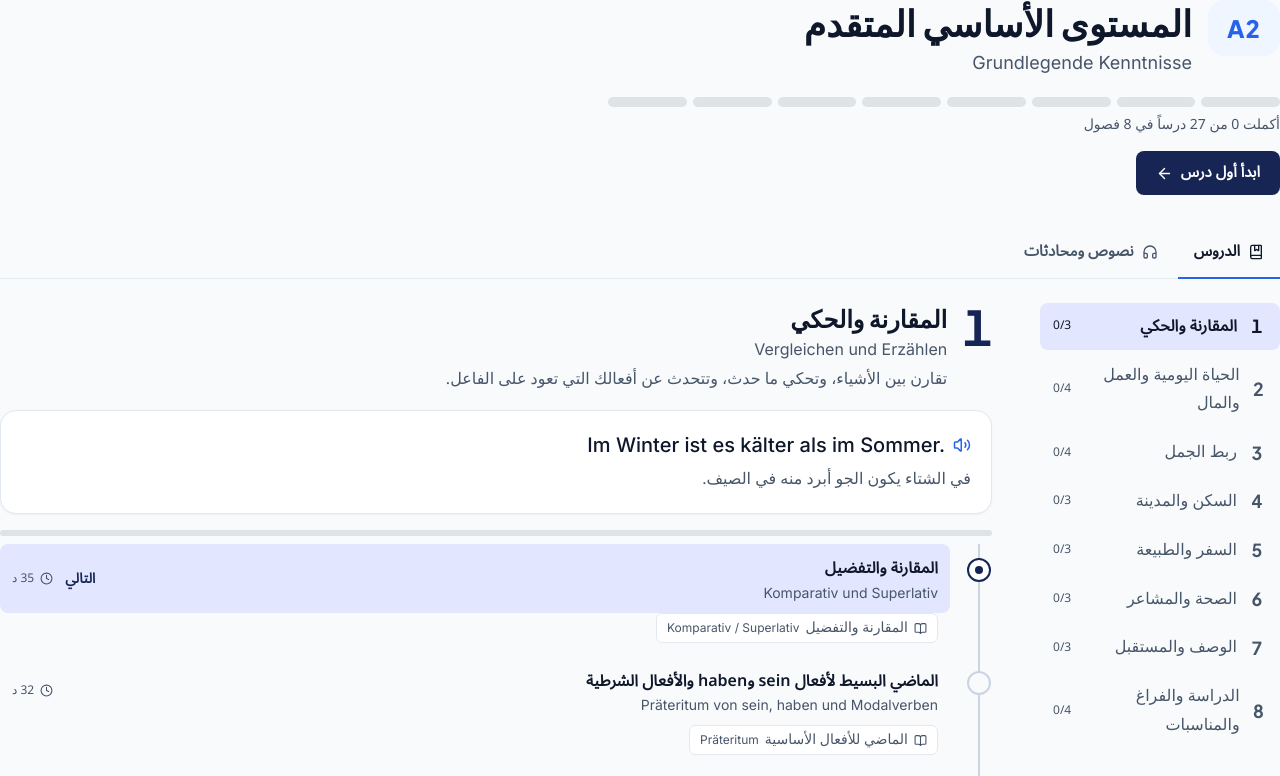
Scenario: level navigation › lists A2 texts and conversations too
Click the tab "نصوص ومحادثات": [1091, 253] box [1008, 227, 1174, 279]
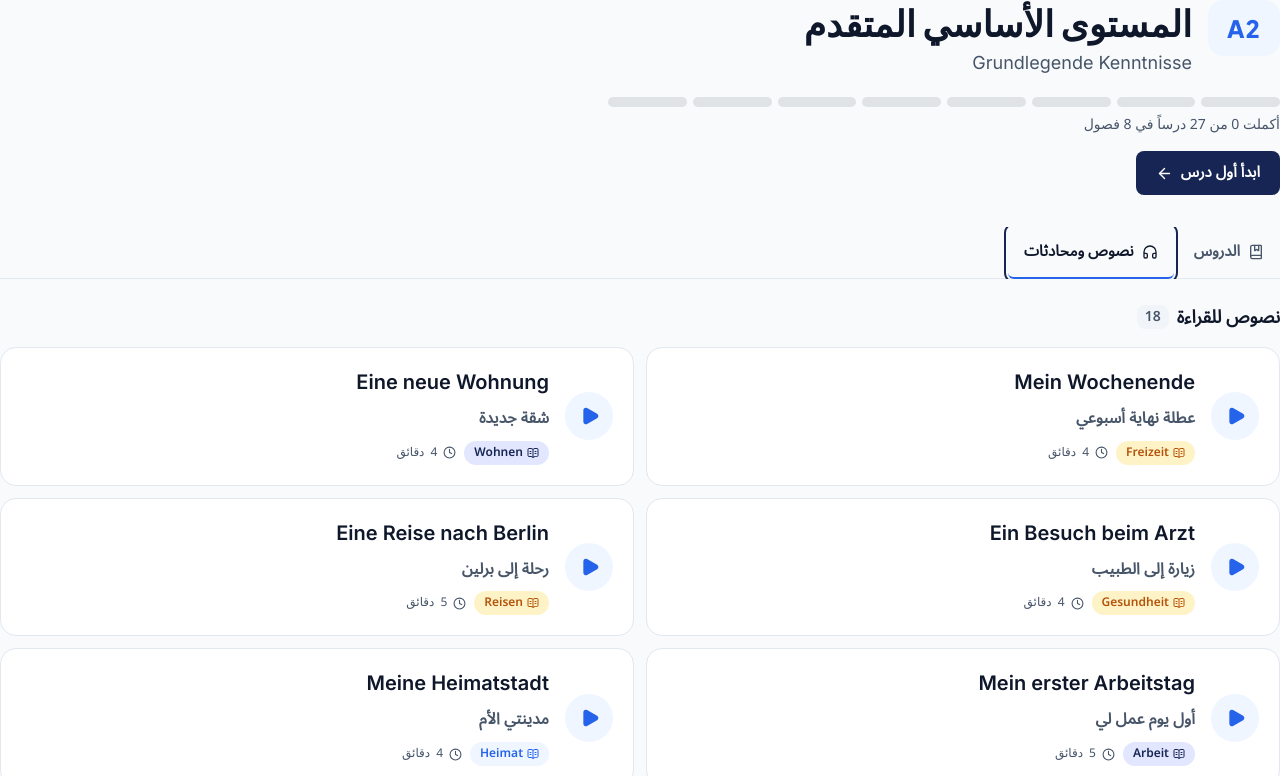
Expected: the link "Mein Wochenende عطلة نهاية أسبوعي Freizeit 4 دقائق" is shown, [646, 347, 1279, 486]
